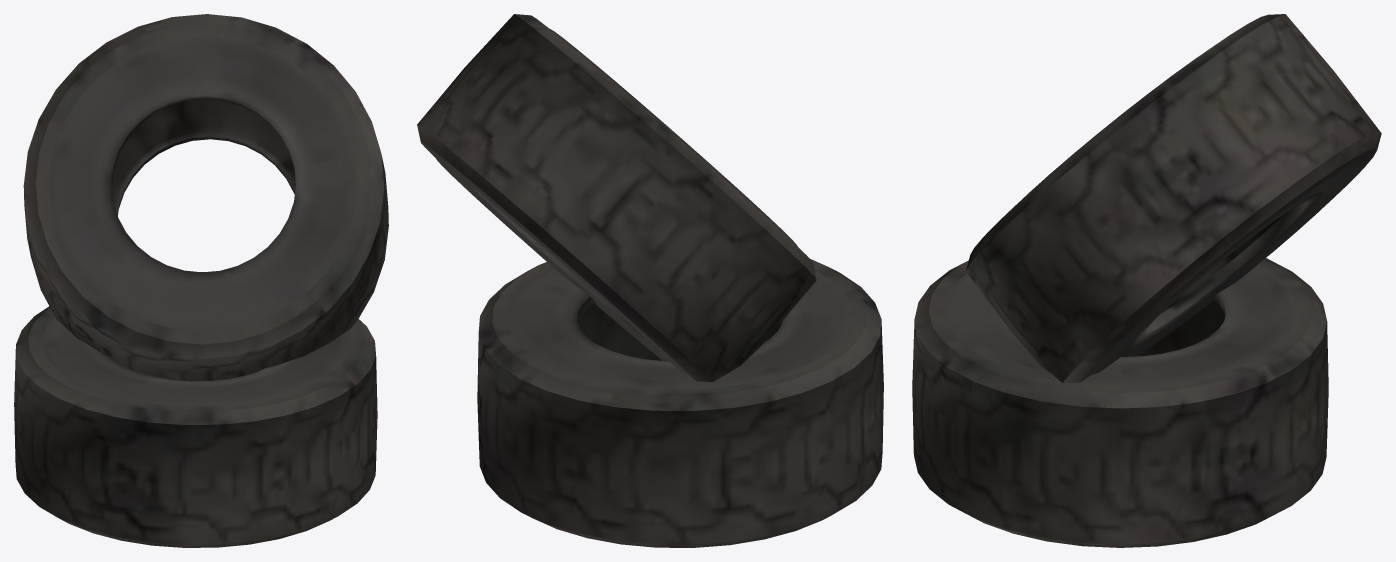
The model's file is tyre-stack--2.gltf.
The picture shows the model from 3 angles, left to right: view 1: azimuth 30°, elevation 25°; view 2: azimuth 150°, elevation 25°; view 3: azimuth 270°, elevation 25°; orthographic projection. The views are drawn at different scales.
Parts seen in each view (by area): view 1: opon.003; view 2: opon.003; view 3: opon.003.
Part boxes in pixels (x1,y1,x2,y2): opon.003: (14,14,388,547); opon.003: (417,14,883,547); opon.003: (912,14,1381,547).
Size of the model in its own units: 0.8974 by 0.9862 by 0.8924.
Materials: 1 (1 with a texture image).
